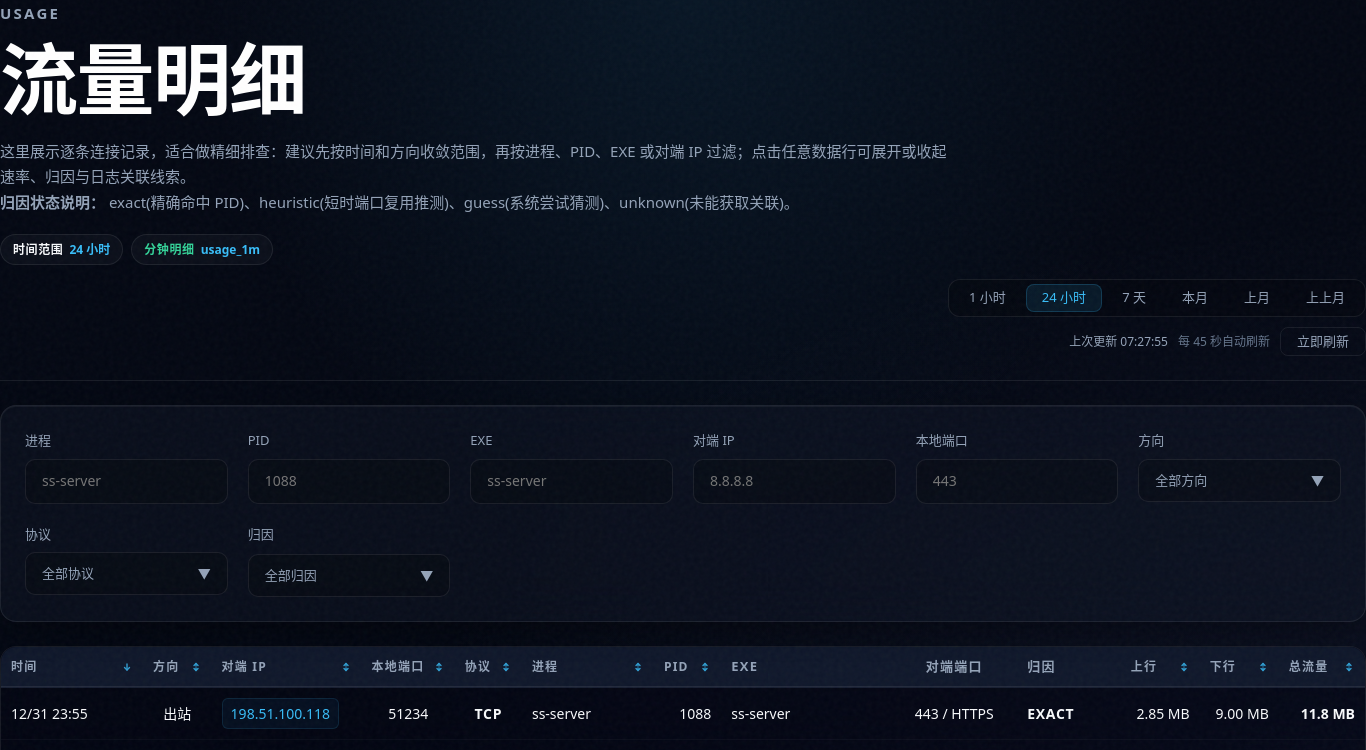
Test: traffic-go web ui › offers an on-demand deep scan path from the usage explain panel
Expected: the heading "流量明细" is shown, [0,26,306,132]
Click the row named "展开详情" at (683, 714), box [1,688,1365,740]
(page scrolled)
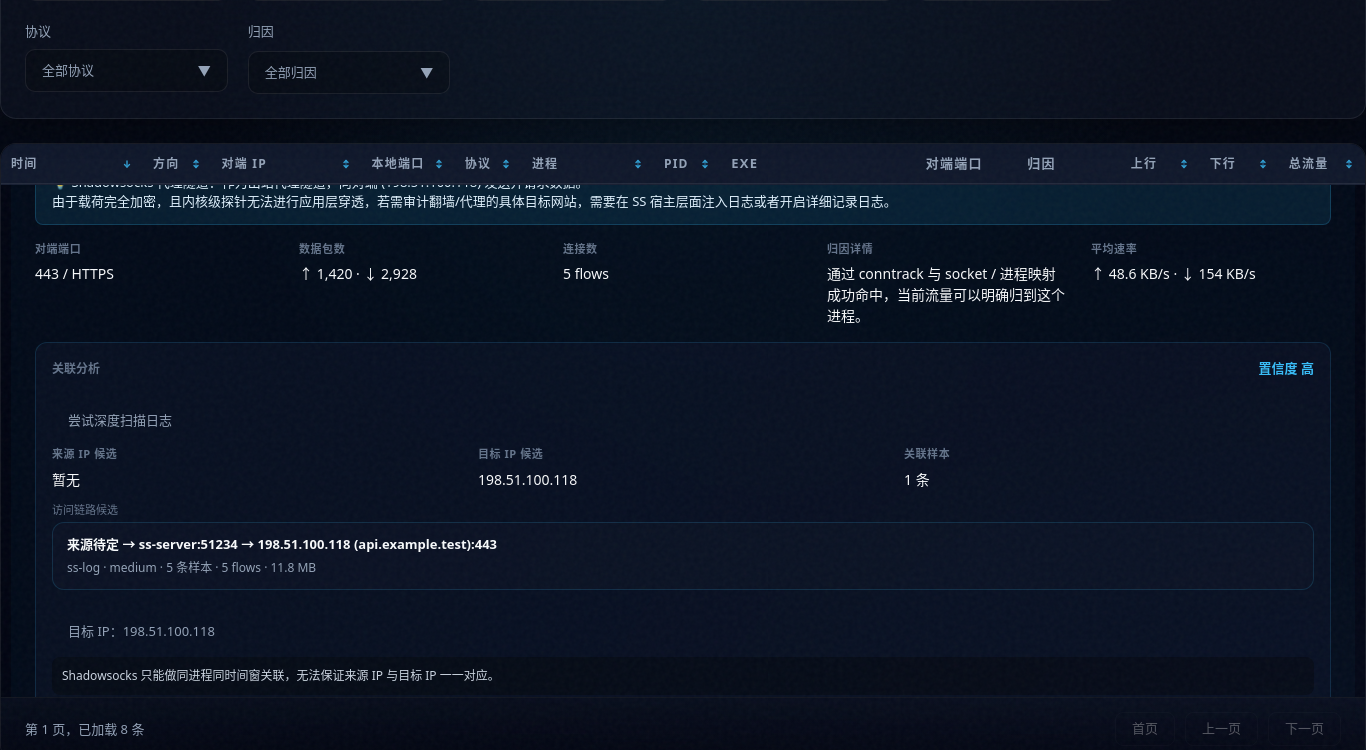
Expected: the button "尝试深度扫描日志" is shown
Click the button "尝试深度扫描日志" at (120, 420), box [52,407,188,434]
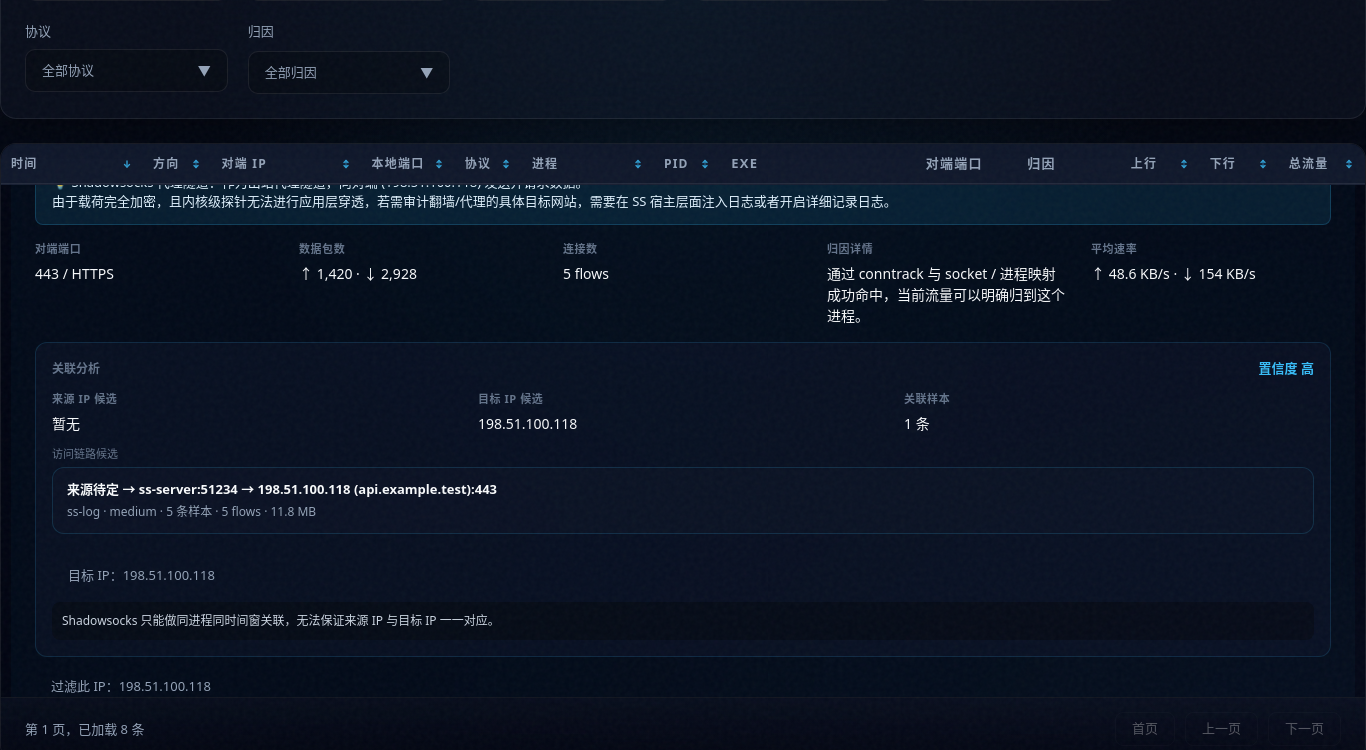
Expected: the button "尝试深度扫描日志" is gone
